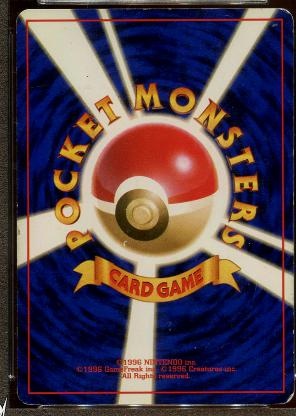Card: (16, 7, 292, 407)
Corner Wear: (270, 388, 293, 406), (15, 392, 40, 406)
Edge Wear: (276, 6, 292, 34), (118, 7, 220, 10), (15, 200, 20, 238)
Scratch: (163, 316, 171, 330), (119, 240, 126, 247)
